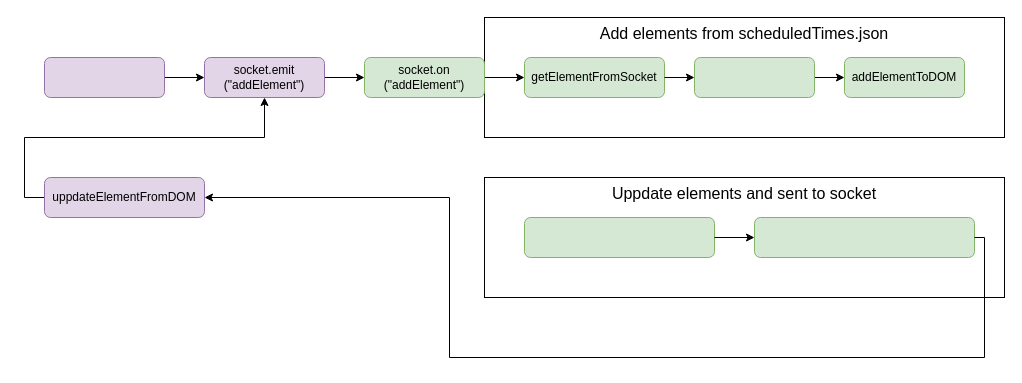
The diagram is 1022 pixels wide and 383 high, and some of its shapes have lost their labels. Each missing label, with the centre of its shape:
delElementFromDOM: [754,77]
getElementFromDOM: [619,237]
getElementFromFile: [104,77]
socket.emit("uppdateElement"): [864,237]
